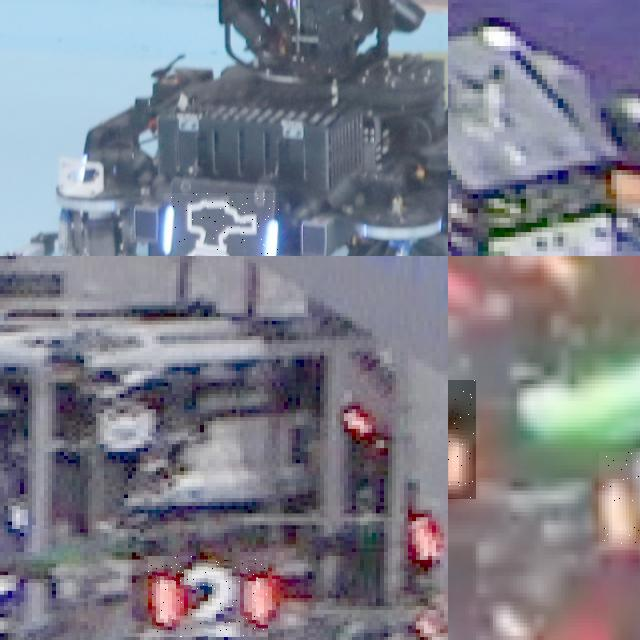Bs: (163, 193, 279, 256)
R2: (148, 556, 268, 637)
R5: (598, 452, 640, 550), (448, 379, 476, 499)
